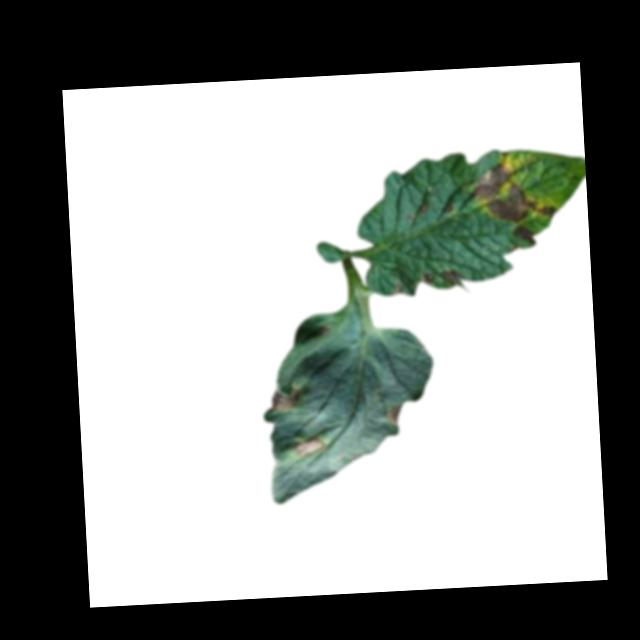Early_blight: (469, 159, 555, 224), (270, 385, 305, 414), (294, 437, 325, 457), (438, 268, 466, 287), (511, 226, 538, 243), (388, 405, 404, 425), (418, 272, 434, 285), (420, 201, 430, 216)
